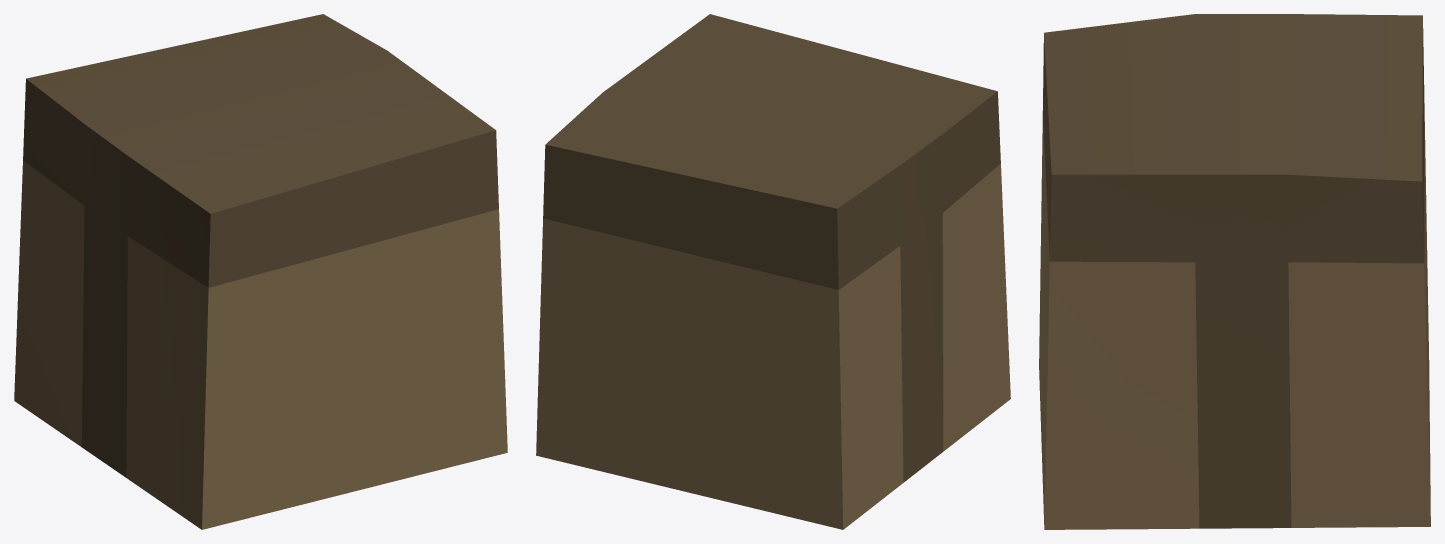
3 renders of one model, left to right at view 1: azimuth 30°, elevation 25°; view 2: azimuth 150°, elevation 25°; view 3: azimuth 270°, elevation 25°, orthographic. The views are drawn at different scales.
Parts seen in each view (by area): view 1: box_07; view 2: box_07; view 3: box_07.
Part boxes in pixels (x1,y1,x2,y2): box_07: (14, 14, 507, 529); box_07: (536, 14, 1010, 529); box_07: (1039, 14, 1430, 529).
Size of the model in its own units: 71.19 by 69.17 by 69.98.
